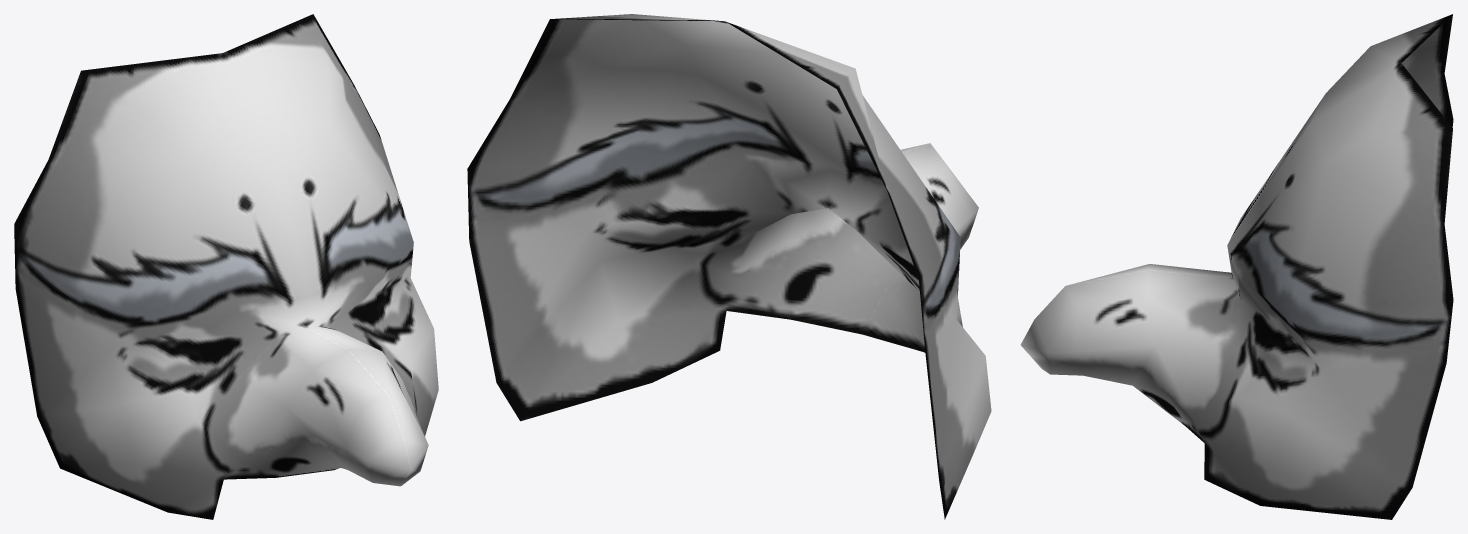
Rendered from GAM_Helm_Geinosha.FBX.
3 renders of one model, left to right at view 1: azimuth 30°, elevation 25°; view 2: azimuth 150°, elevation 25°; view 3: azimuth 270°, elevation 25°, orthographic. The views are drawn at different scales.
Parts seen in each view (by area): view 1: GAM_Helm_Geinosha; view 2: GAM_Helm_Geinosha; view 3: GAM_Helm_Geinosha.
Boxes of the visible parts, x1,y1,x2,y2 form: GAM_Helm_Geinosha: (14, 14, 438, 519); GAM_Helm_Geinosha: (467, 14, 991, 519); GAM_Helm_Geinosha: (1020, 14, 1453, 519).
Bounding box in the file's own units: 17.27 × 16.77 × 17.36.
